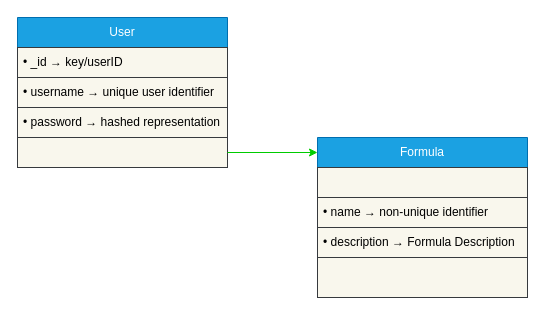
Image size: 545x315. Some labels were removed from this diagram. Each missing label, with the box of its shape:
• _id → key/formulaID: (316, 166, 528, 198)
• formulas → Formula._id[]: (16, 136, 228, 168)
• raw_latex → Formula LaTex representtation: (316, 256, 528, 298)
